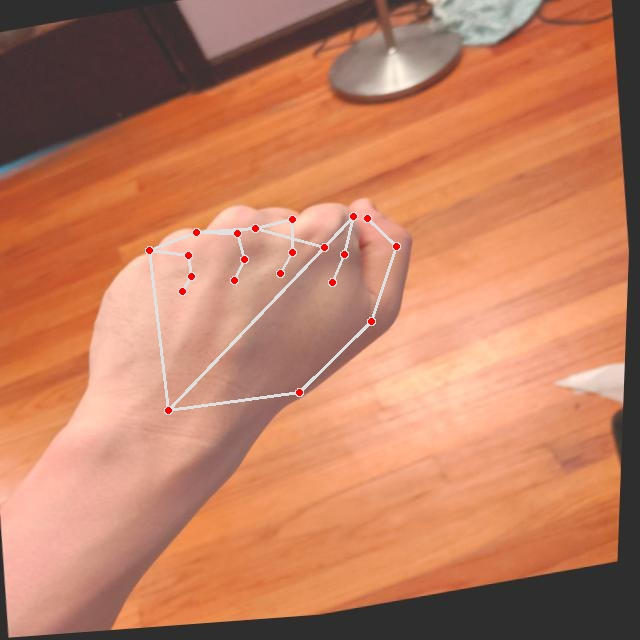A: (64, 176, 438, 458)
